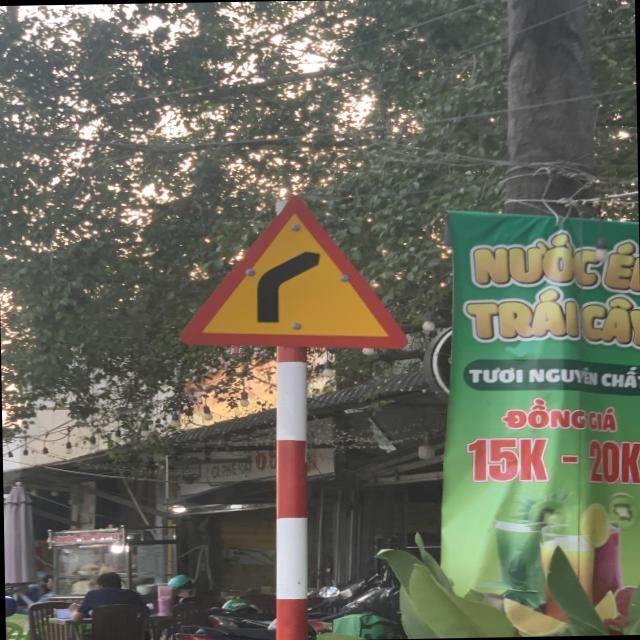Duong_Nguoi_Di_Bo_Cat_Ngang: (178, 195, 410, 351)
